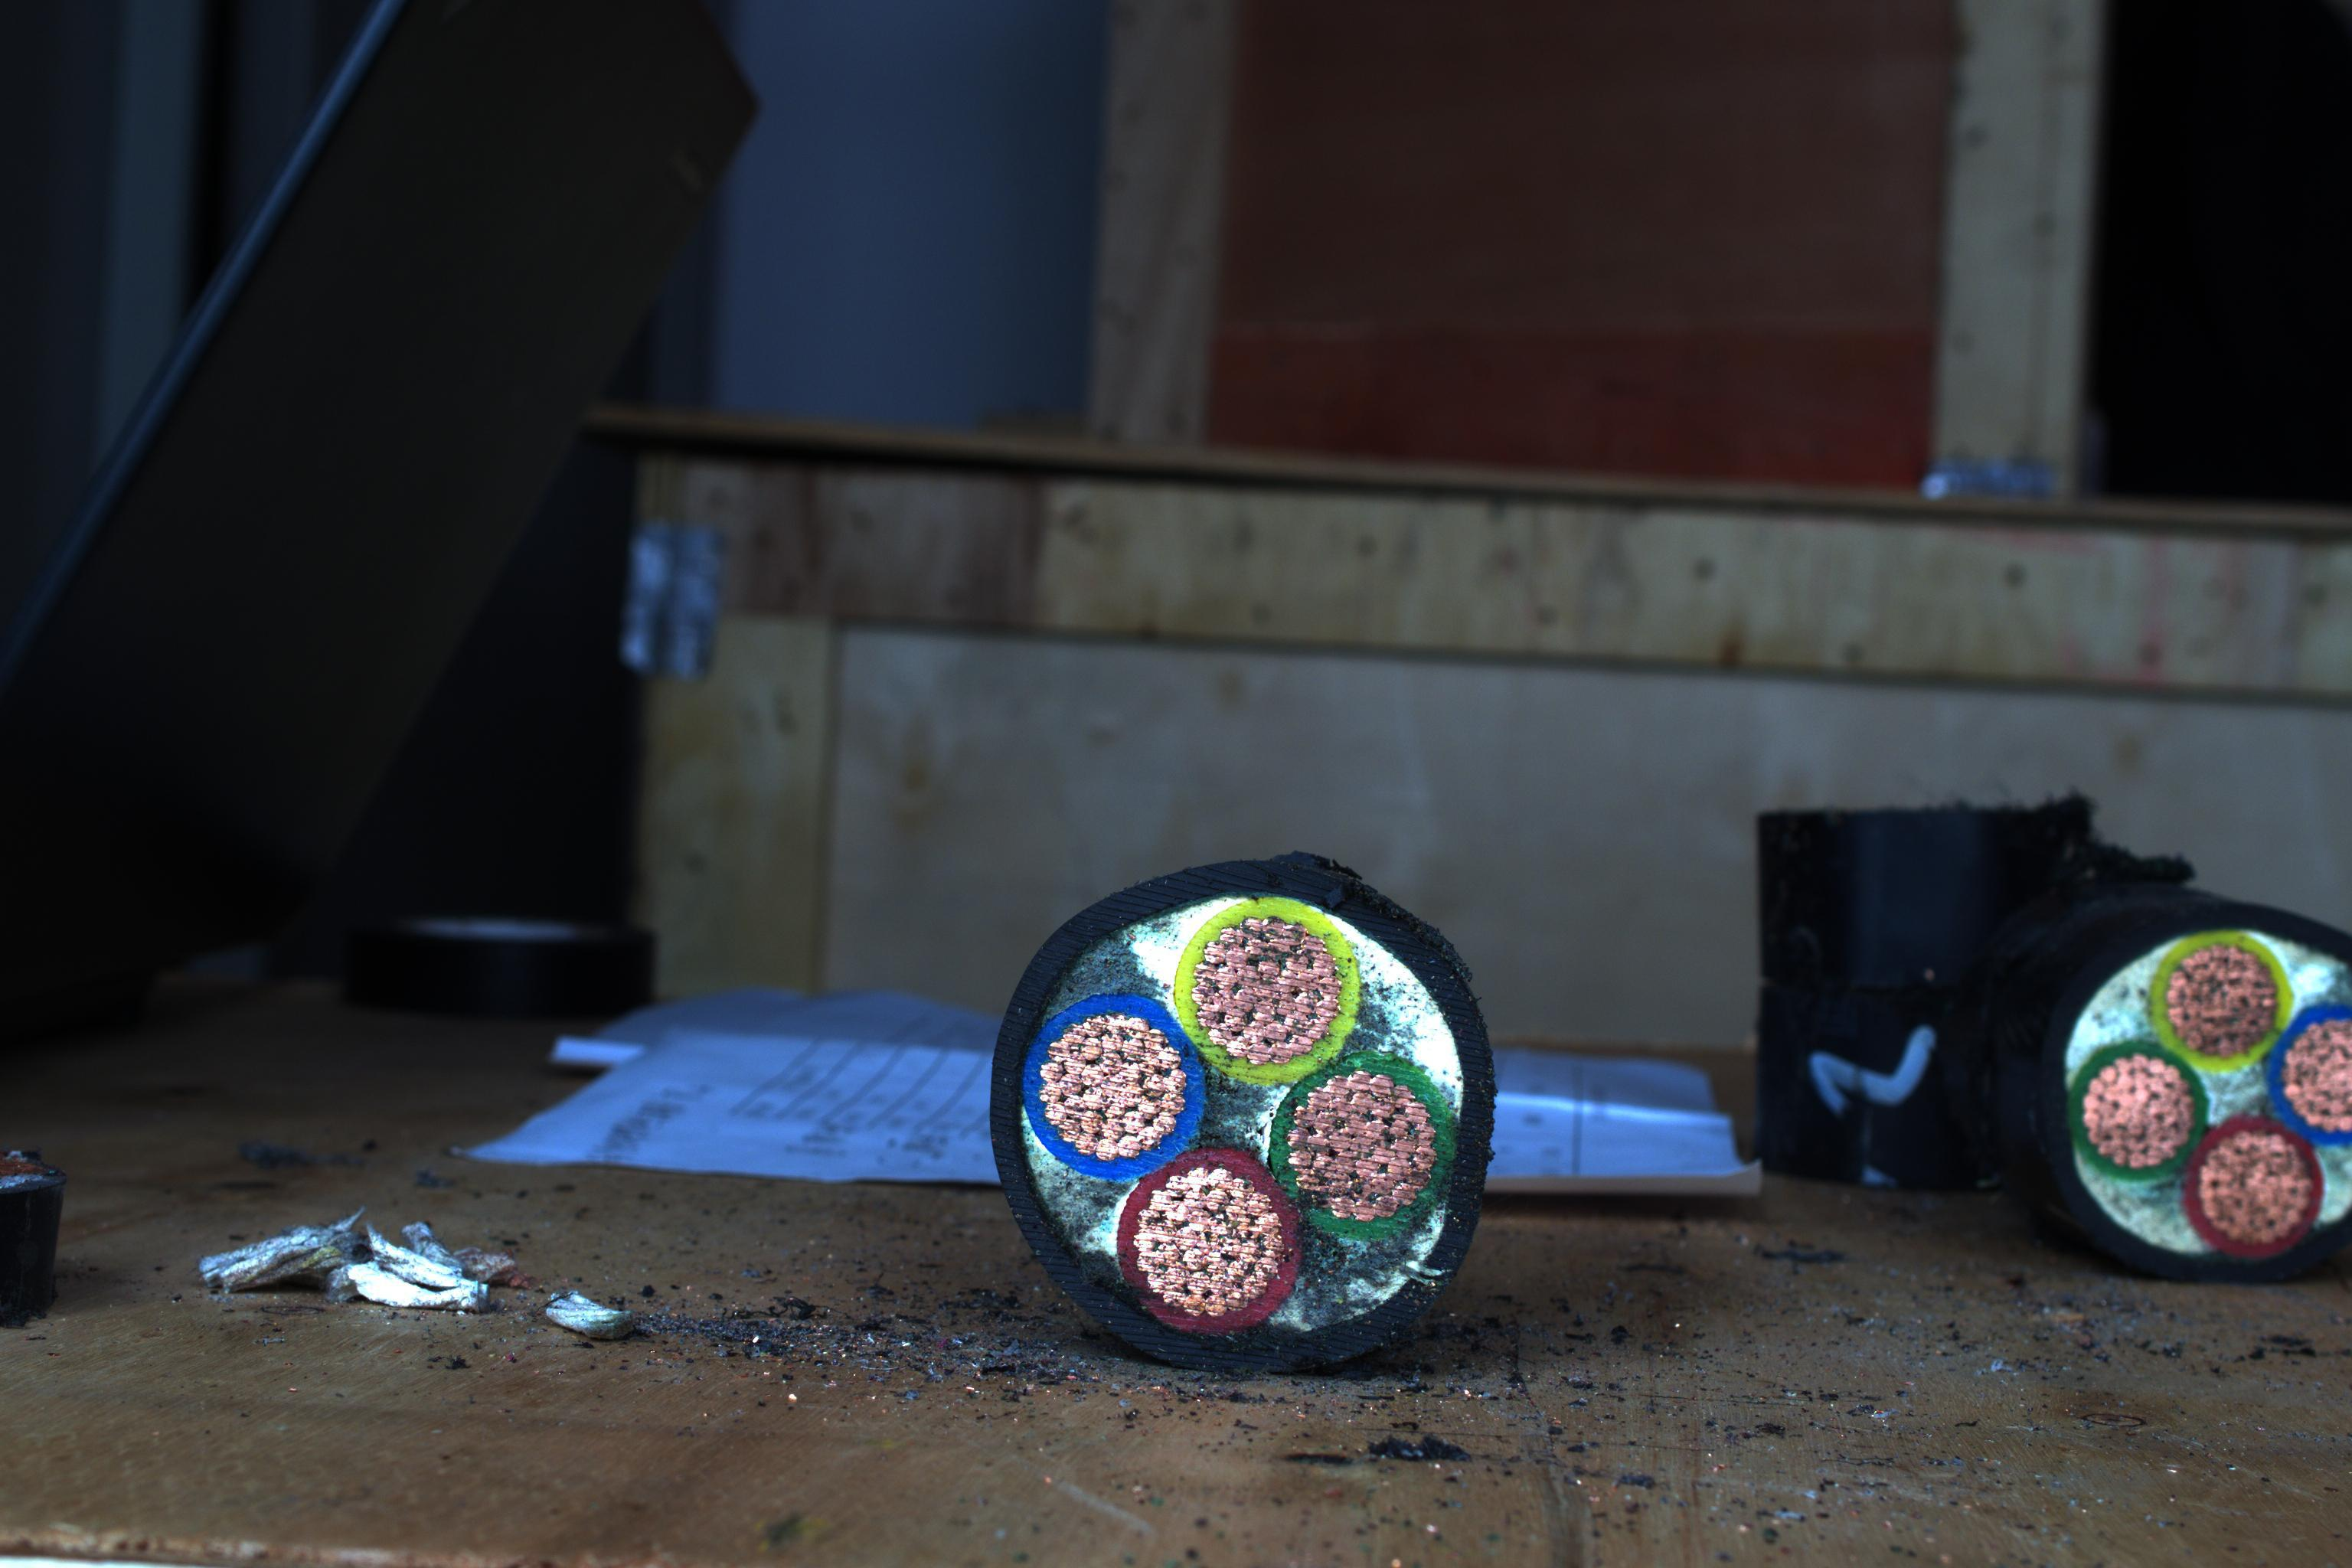YJV_0.6_1kV_4x185: (994, 857, 1494, 1370)
